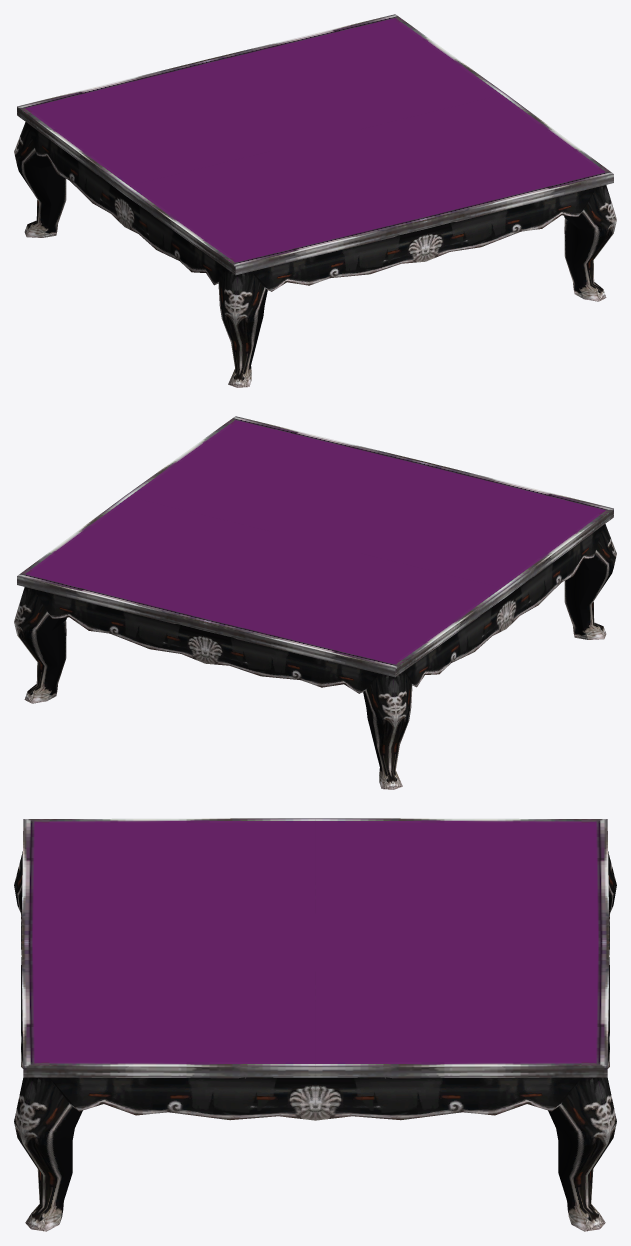
The model's file is furni_0201214_02.FBX.
3 renders of one model, top to bottom at view 1: azimuth 30°, elevation 25°; view 2: azimuth 150°, elevation 25°; view 3: azimuth 270°, elevation 25°, orthographic. The views are drawn at different scales.
Visible parts, largest first — view 1: furni_0201214_02; view 2: furni_0201214_02; view 3: furni_0201214_02.
Boxes of the visible parts, x1,y1,x2,y2 form: furni_0201214_02: (14, 14, 616, 387); furni_0201214_02: (14, 416, 616, 789); furni_0201214_02: (14, 818, 616, 1231).
Size of the model in its own units: 164 by 49.99 by 164.
